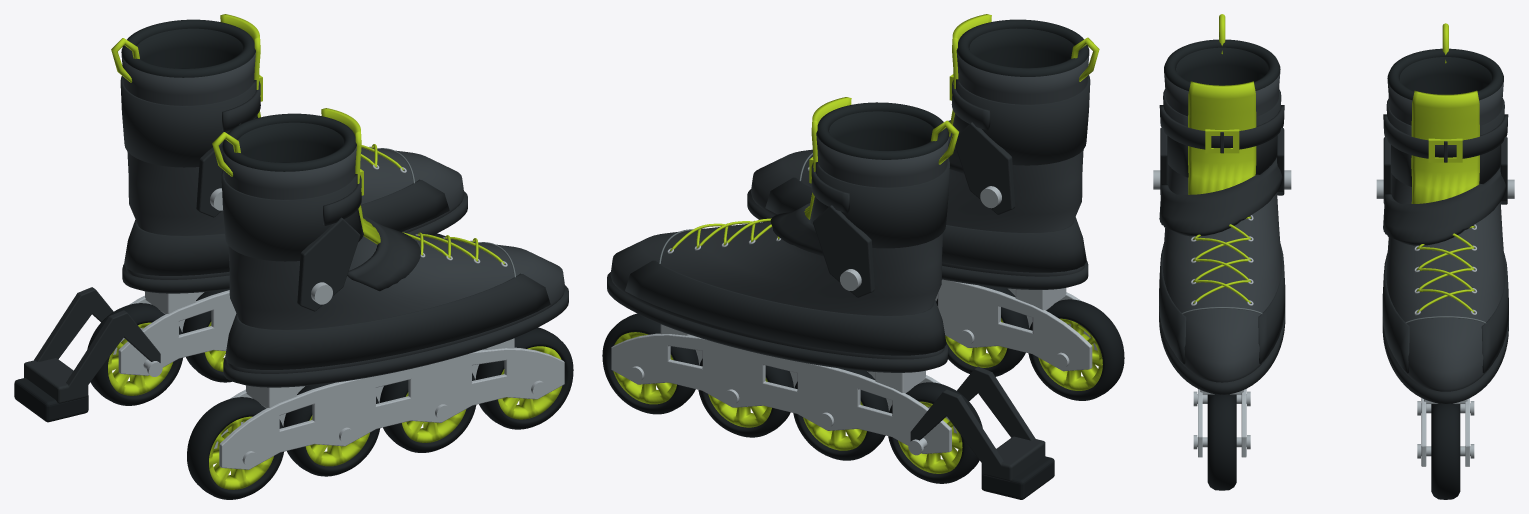
3 views of the same model, side by side, from view 1: azimuth 30°, elevation 25°; view 2: azimuth 150°, elevation 25°; view 3: azimuth 270°, elevation 25° (orthographic). The views are drawn at different scales.
Parts seen in each view (by area): view 1: L Hollow textile boot with lining, R Hollow textile boot with lining, L Perforated frame rail -0.018, L Rear molded heel cradle, R Rear molded heel cradle, L Raised C shaped ankle cuff, R Raised C shaped ankle cuff, L Molded boot sole, R Perforated frame rail -0.018, L Wheel1 rounded tread, L Cuff side pivot arm -0.048, L Padded collar welt (+24 smaller); view 2: R Hollow textile boot with lining, L Hollow textile boot with lining, R Perforated frame rail 0.018, R Rear molded heel cradle, L Perforated frame rail 0.018, L Rear molded heel cradle, R Raised C shaped ankle cuff, L Raised C shaped ankle cuff, R Molded boot sole, L Wheel1 rounded tread, R Cuff side pivot arm 0.048, L Cuff side pivot arm 0.048 (+25 smaller); view 3: L Hollow textile boot with lining, R Hollow textile boot with lining, R Padded front tongue, L Padded front tongue, R Diagonal instep retention strap, L Diagonal instep retention strap, L Rear molded heel cradle, R Rear molded heel cradle, L Wheel4 rounded tread, R Wheel4 rounded tread, R Upper cuff ratchet strap, L Upper cuff ratchet strap (+14 smaller).
Boxes of the visible parts, x1,y1,x2,y2 form: L Hollow textile boot with lining: (222,122,565,373); R Hollow textile boot with lining: (121,28,464,279); L Perforated frame rail -0.018: (219,347,564,469); L Rear molded heel cradle: (225,273,550,369); R Rear molded heel cradle: (124,179,449,275); L Raised C shaped ankle cuff: (221,170,363,261); R Raised C shaped ankle cuff: (120,76,257,167); L Molded boot sole: (223,285,568,387); R Perforated frame rail -0.018: (118,290,236,375); L Wheel1 rounded tread: (187,397,283,499); L Cuff side pivot arm -0.048: (297,217,360,311); L Padded collar welt: (222,113,356,171); R Hollow textile boot with lining: (610,111,948,359); L Hollow textile boot with lining: (751,28,1089,276); R Perforated frame rail 0.018: (611,333,951,453); R Rear molded heel cradle: (625,260,946,355); L Perforated frame rail 0.018: (938,279,1092,371); L Rear molded heel cradle: (765,177,1086,272); R Raised C shaped ankle cuff: (810,158,949,248); L Raised C shaped ankle cuff: (950,75,1090,165); R Molded boot sole: (607,272,947,372); L Wheel1 rounded tread: (1028,299,1124,400); R Cuff side pivot arm 0.048: (813,205,874,297); L Cuff side pivot arm 0.048: (955,122,1015,214); L Hollow textile boot with lining: (1162,47,1281,382); R Hollow textile boot with lining: (1386,57,1505,391); R Padded front tongue: (1411,90,1479,203); L Padded front tongue: (1188,81,1256,194); R Diagonal instep retention strap: (1383,167,1506,245); L Diagonal instep retention strap: (1159,157,1282,236); L Rear molded heel cradle: (1159,243,1285,364); R Rear molded heel cradle: (1382,253,1508,373); L Wheel4 rounded tread: (1207,394,1236,490); R Wheel4 rounded tread: (1431,403,1460,499); R Upper cuff ratchet strap: (1383,114,1508,158); L Upper cuff ratchet strap: (1159,105,1284,149).
Bounding box in the file's own units: 38.4 × 30.67 × 29.76.
